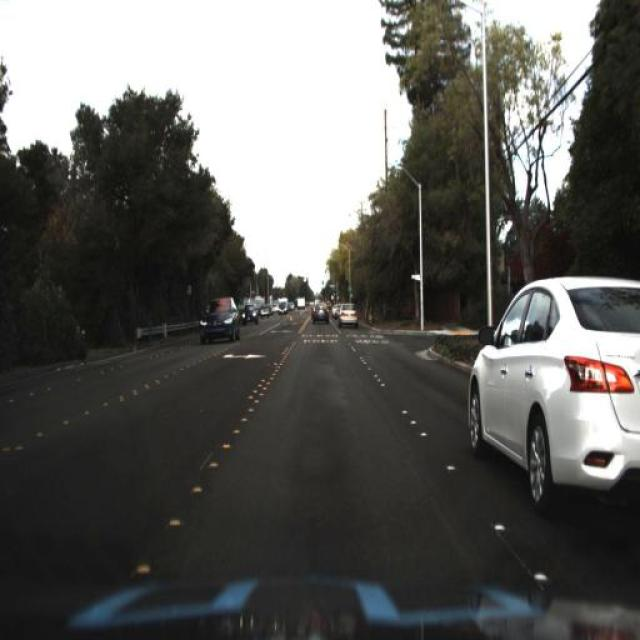car: (458, 265, 636, 516), (199, 294, 241, 344), (336, 297, 362, 332), (238, 300, 264, 330), (309, 298, 331, 328)
